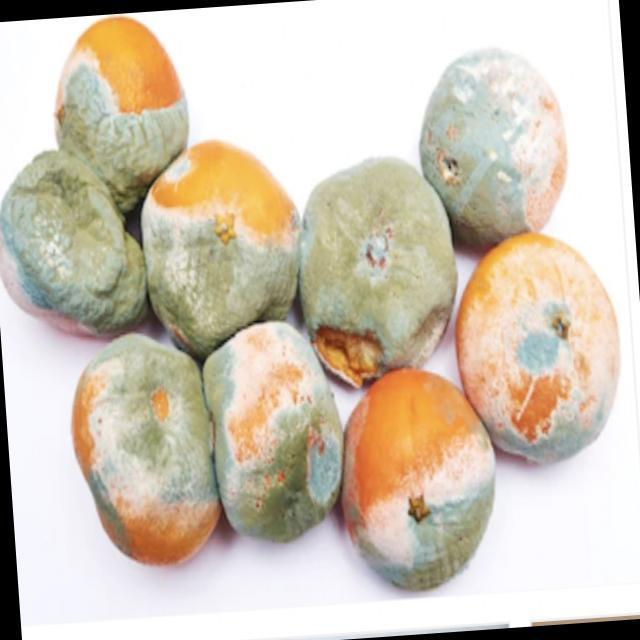rotten orange: (454, 231, 620, 464), (139, 138, 301, 359), (70, 331, 221, 566), (340, 367, 495, 591), (53, 14, 189, 210)
